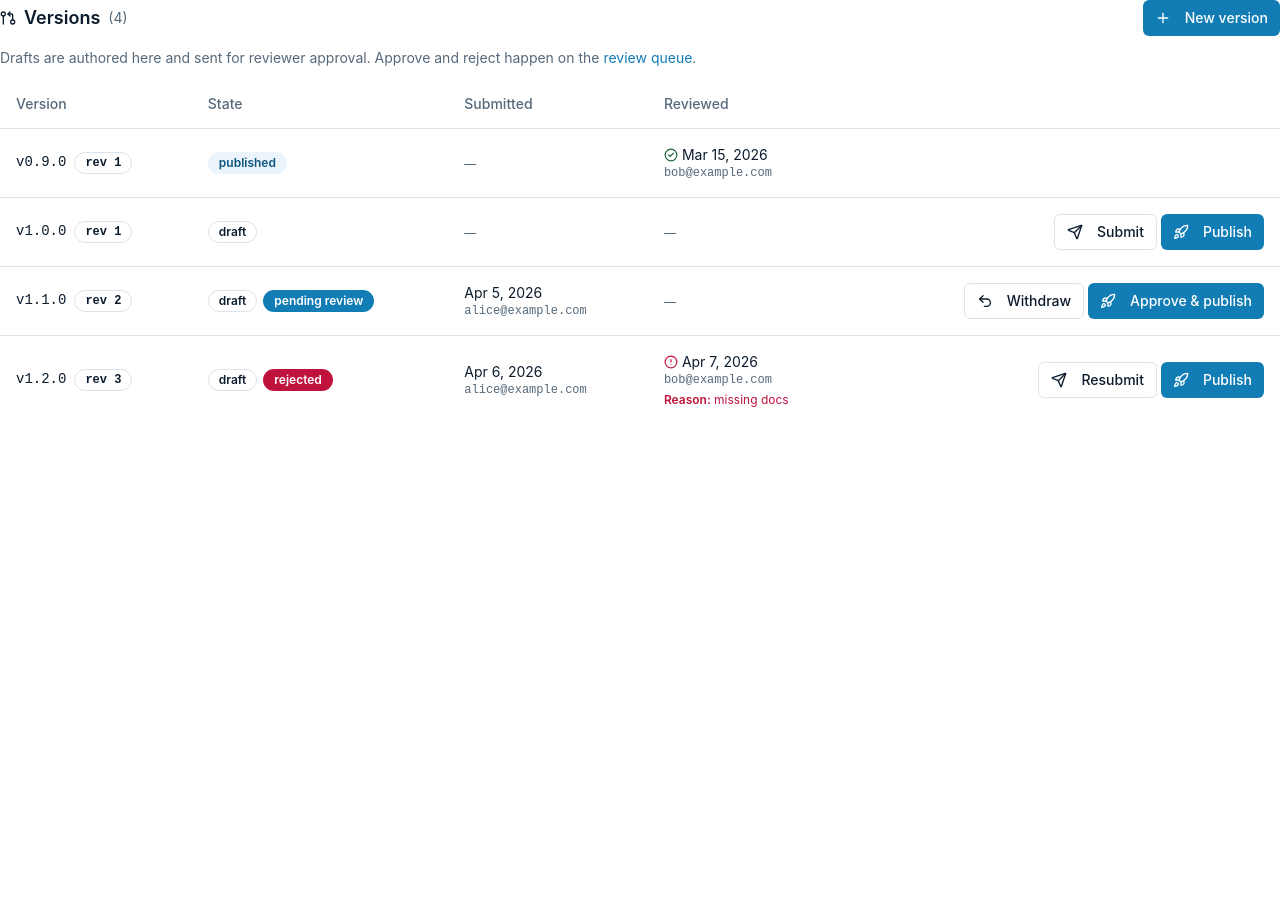
Test: VersionsSection › surfaces a friendly error on review-revision-mismatch
Click the button "Submit" at coordinates (1106, 232), box [1054, 214, 1157, 250]
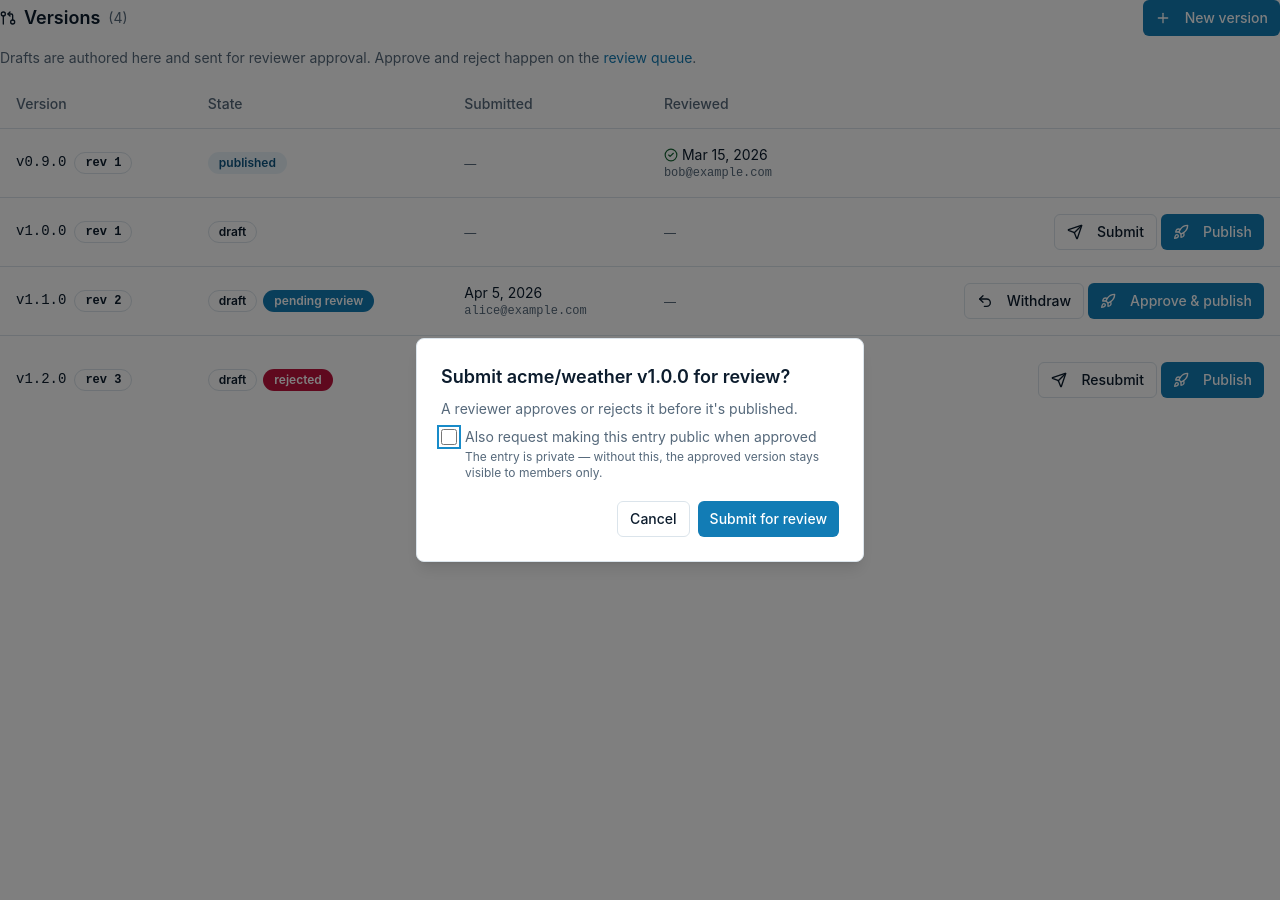
Click the button "Submit for review" at coordinates (768, 519), box [698, 501, 839, 537]
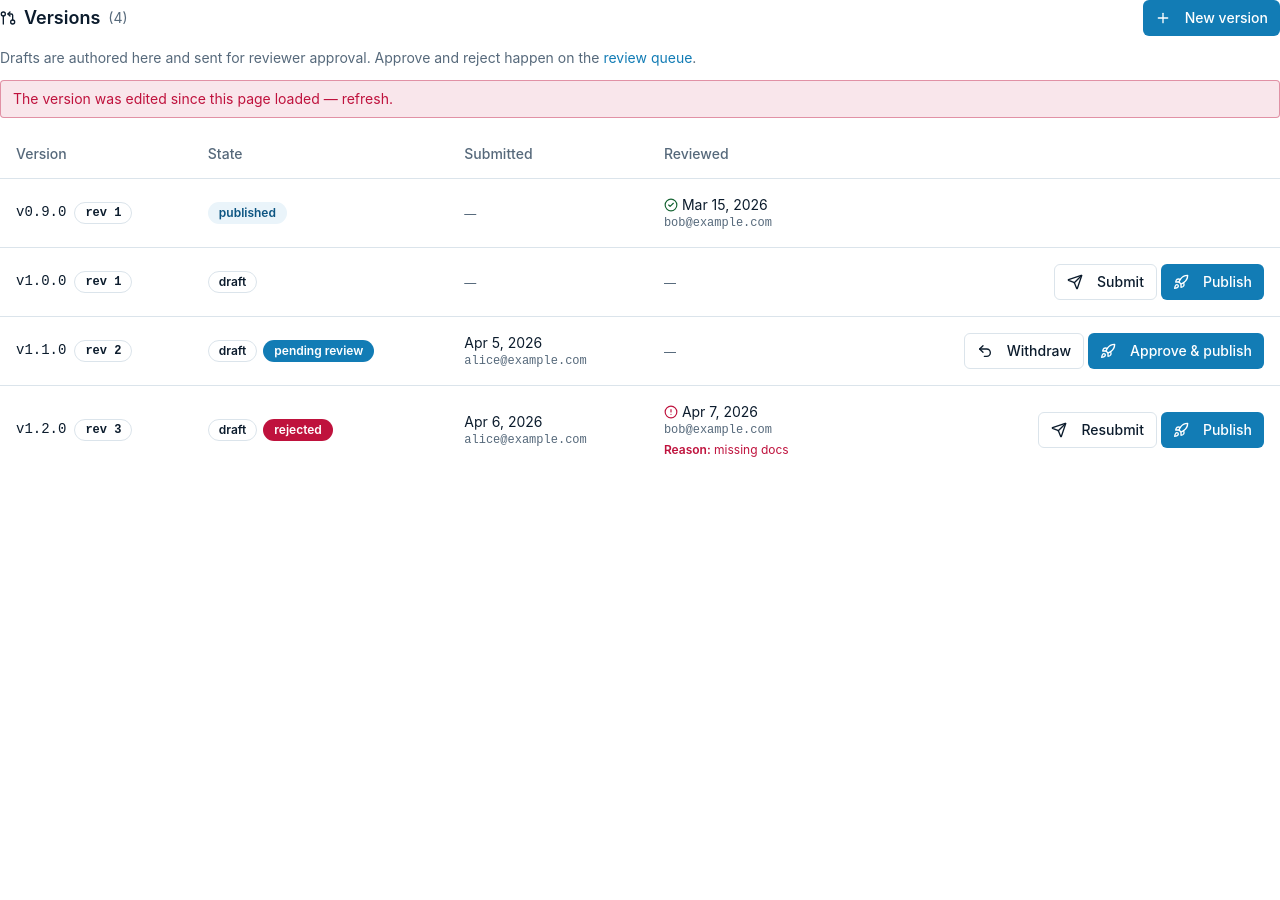
Check: the text "The version was edited since this page loaded — refresh." is shown, box [0, 80, 1279, 118]
